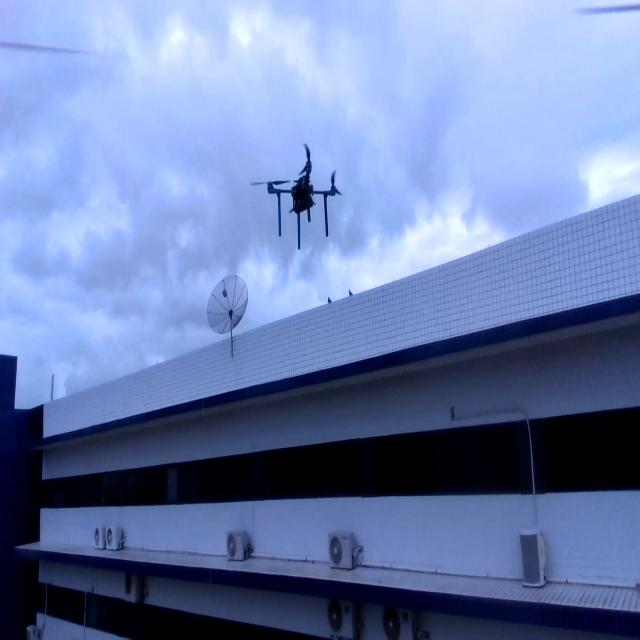-uav-: (240, 136, 364, 258)
